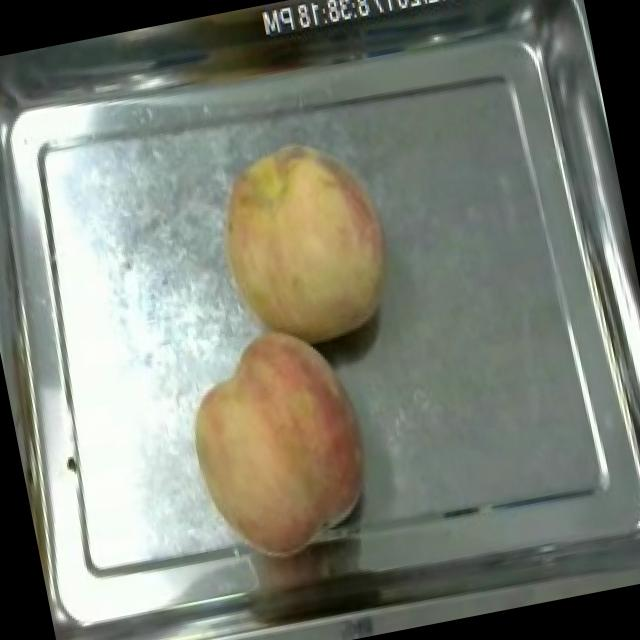Fruit: (164, 310, 389, 574), (194, 121, 410, 367)
